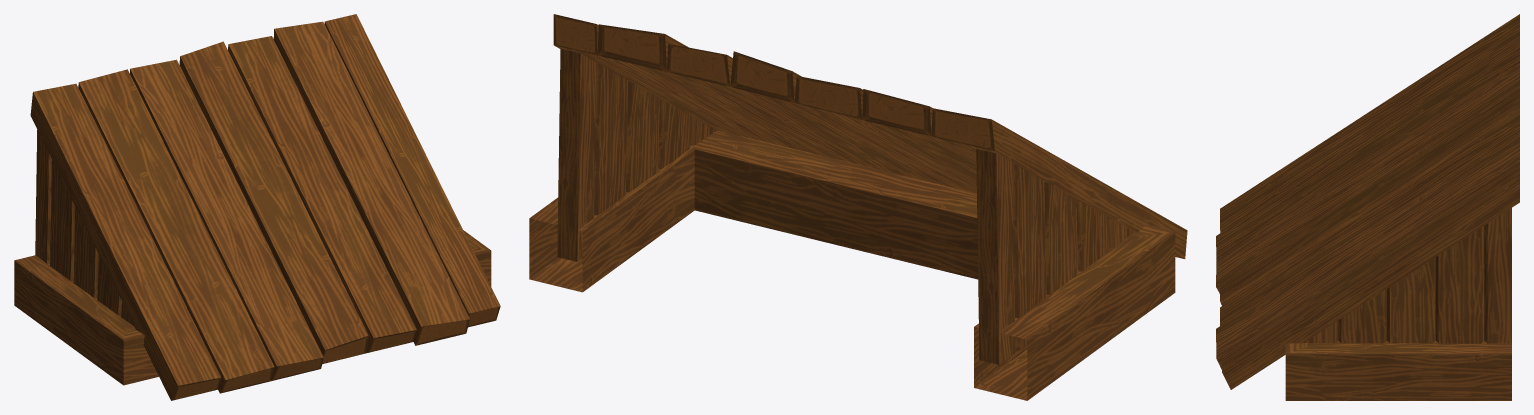
3 renders of one model, left to right at view 1: azimuth 30°, elevation 25°; view 2: azimuth 150°, elevation 25°; view 3: azimuth 270°, elevation 25°, orthographic. The views are drawn at different scales.
Parts seen in each view (by area): view 1: Roof_Wooden_2x1; view 2: Roof_Wooden_2x1; view 3: Roof_Wooden_2x1.
Boxes of the visible parts, <box> form: Roof_Wooden_2x1: <box>14,14,500,400</box>; Roof_Wooden_2x1: <box>529,14,1187,400</box>; Roof_Wooden_2x1: <box>1216,14,1519,400</box>.
Bounding box in the file's own units: 2.26 × 1.25 × 1.56.
2 materials, 2 textured.
